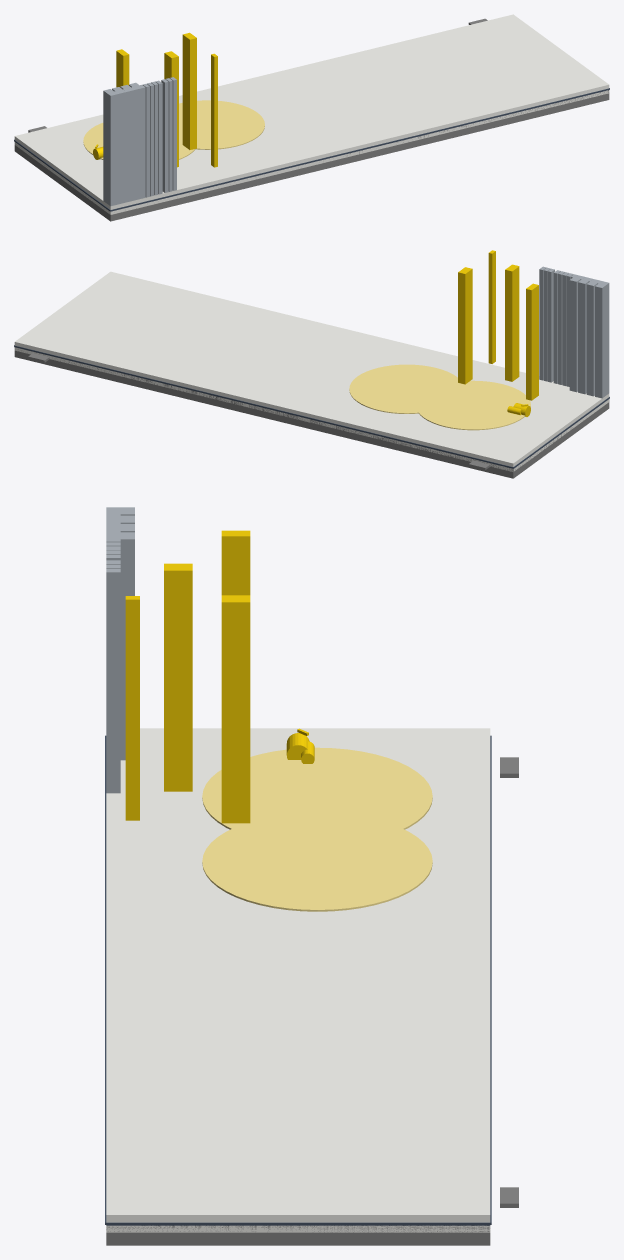
File: Chữ nổi alu đồng sáng hắt chân.obj
The picture shows the model from 3 angles, top to bottom: view 1: azimuth 30°, elevation 25°; view 2: azimuth 150°, elevation 25°; view 3: azimuth 270°, elevation 25°; orthographic projection. The views are drawn at different scales.
Parts seen in each view (by area): view 1: khoi, thanh; view 2: khoi, thanh; view 3: khoi, thanh.
Part boxes in pixels (<box>): khoi: <box>14,14,609,221</box>; thanh: <box>14,88,609,211</box>; khoi: <box>14,250,609,478</box>; thanh: <box>14,345,609,468</box>; khoi: <box>106,507,518,1245</box>; thanh: <box>105,728,491,1225</box>.
Bounding box in the file's own units: 1.2 × 0.309 × 0.4315.
